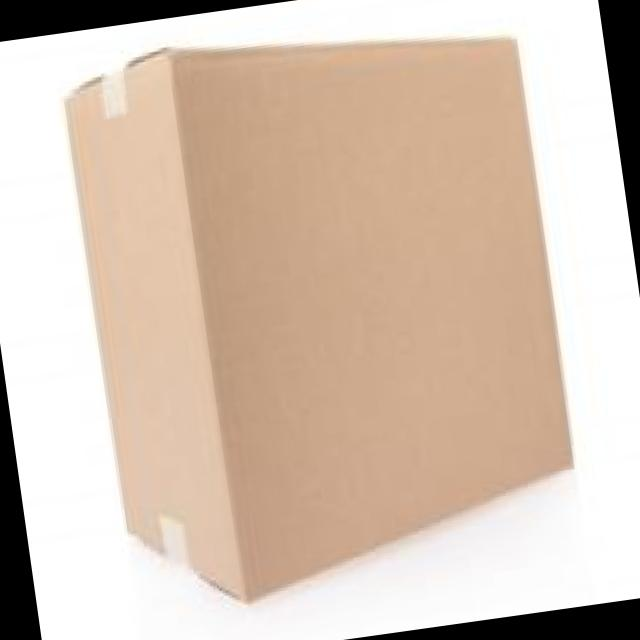box: (59, 37, 573, 604)
